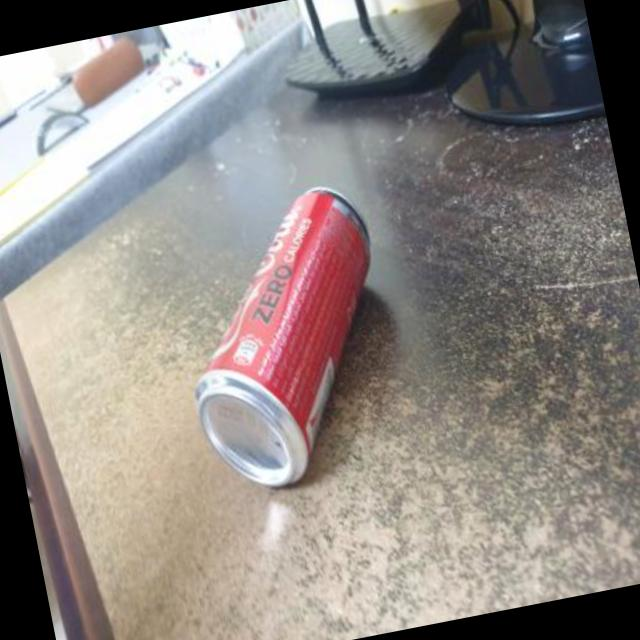metal: (193, 187, 367, 485)
